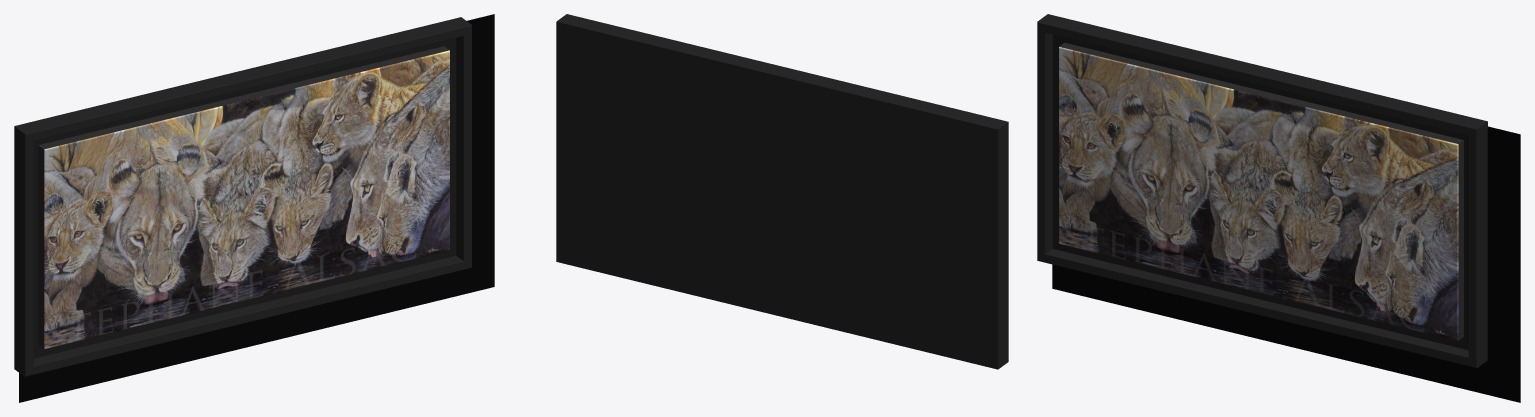
The model's file is tableau-lions-classique-23fe8b9a.glb.
3 renders of one model, left to right at view 1: azimuth 30°, elevation 25°; view 2: azimuth 150°, elevation 25°; view 3: azimuth 330°, elevation 25°, orthographic.
Visible parts, largest first — view 1: Painting; view 2: Painting; view 3: Painting.
Boxes of the visible parts, box(x1,y1,x2,y2) form: Painting: box(14, 14, 494, 402); Painting: box(556, 14, 1008, 369); Painting: box(1037, 14, 1520, 402).
Size of the model in its own units: 1.01 by 0.556 by 0.04.
5 materials, 3 textured.
